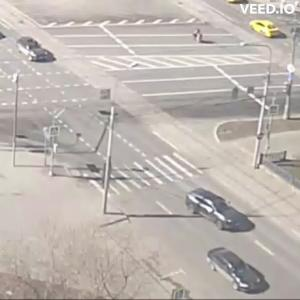car: (208, 246, 270, 294), (187, 190, 256, 233), (16, 35, 57, 65), (249, 18, 281, 39)
